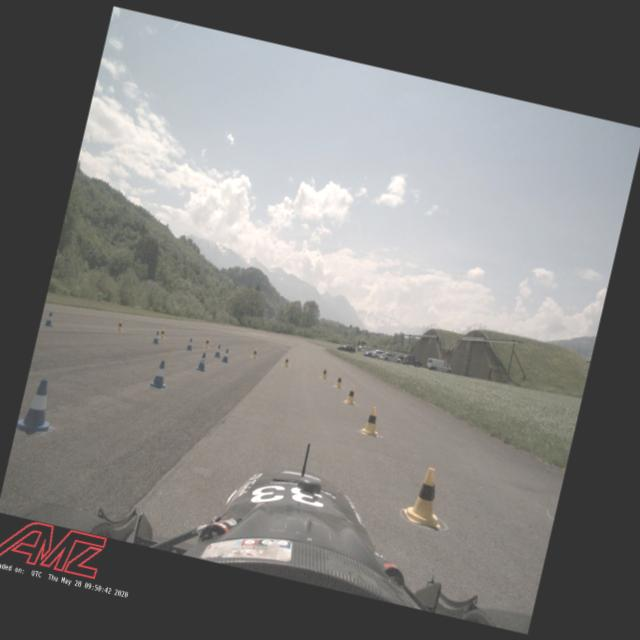blue_cone: (15, 374, 62, 438), (148, 358, 172, 390), (194, 350, 210, 372), (42, 310, 56, 327), (220, 348, 232, 363), (212, 343, 223, 358), (185, 336, 195, 352), (152, 330, 162, 344)
yellow_cone: (400, 464, 453, 528), (360, 406, 384, 438), (343, 384, 358, 406), (334, 373, 344, 389), (114, 319, 124, 332), (202, 336, 212, 348), (250, 346, 259, 358), (320, 366, 328, 379), (282, 355, 290, 368), (158, 327, 166, 339)
